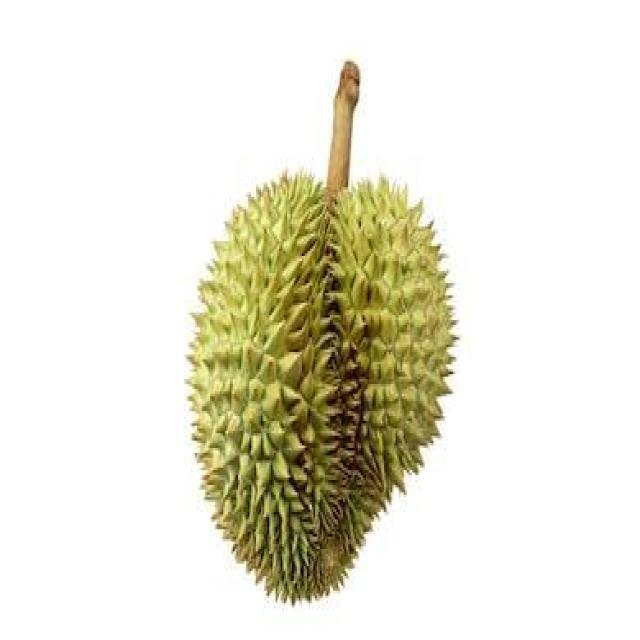immature: (183, 160, 464, 606)
